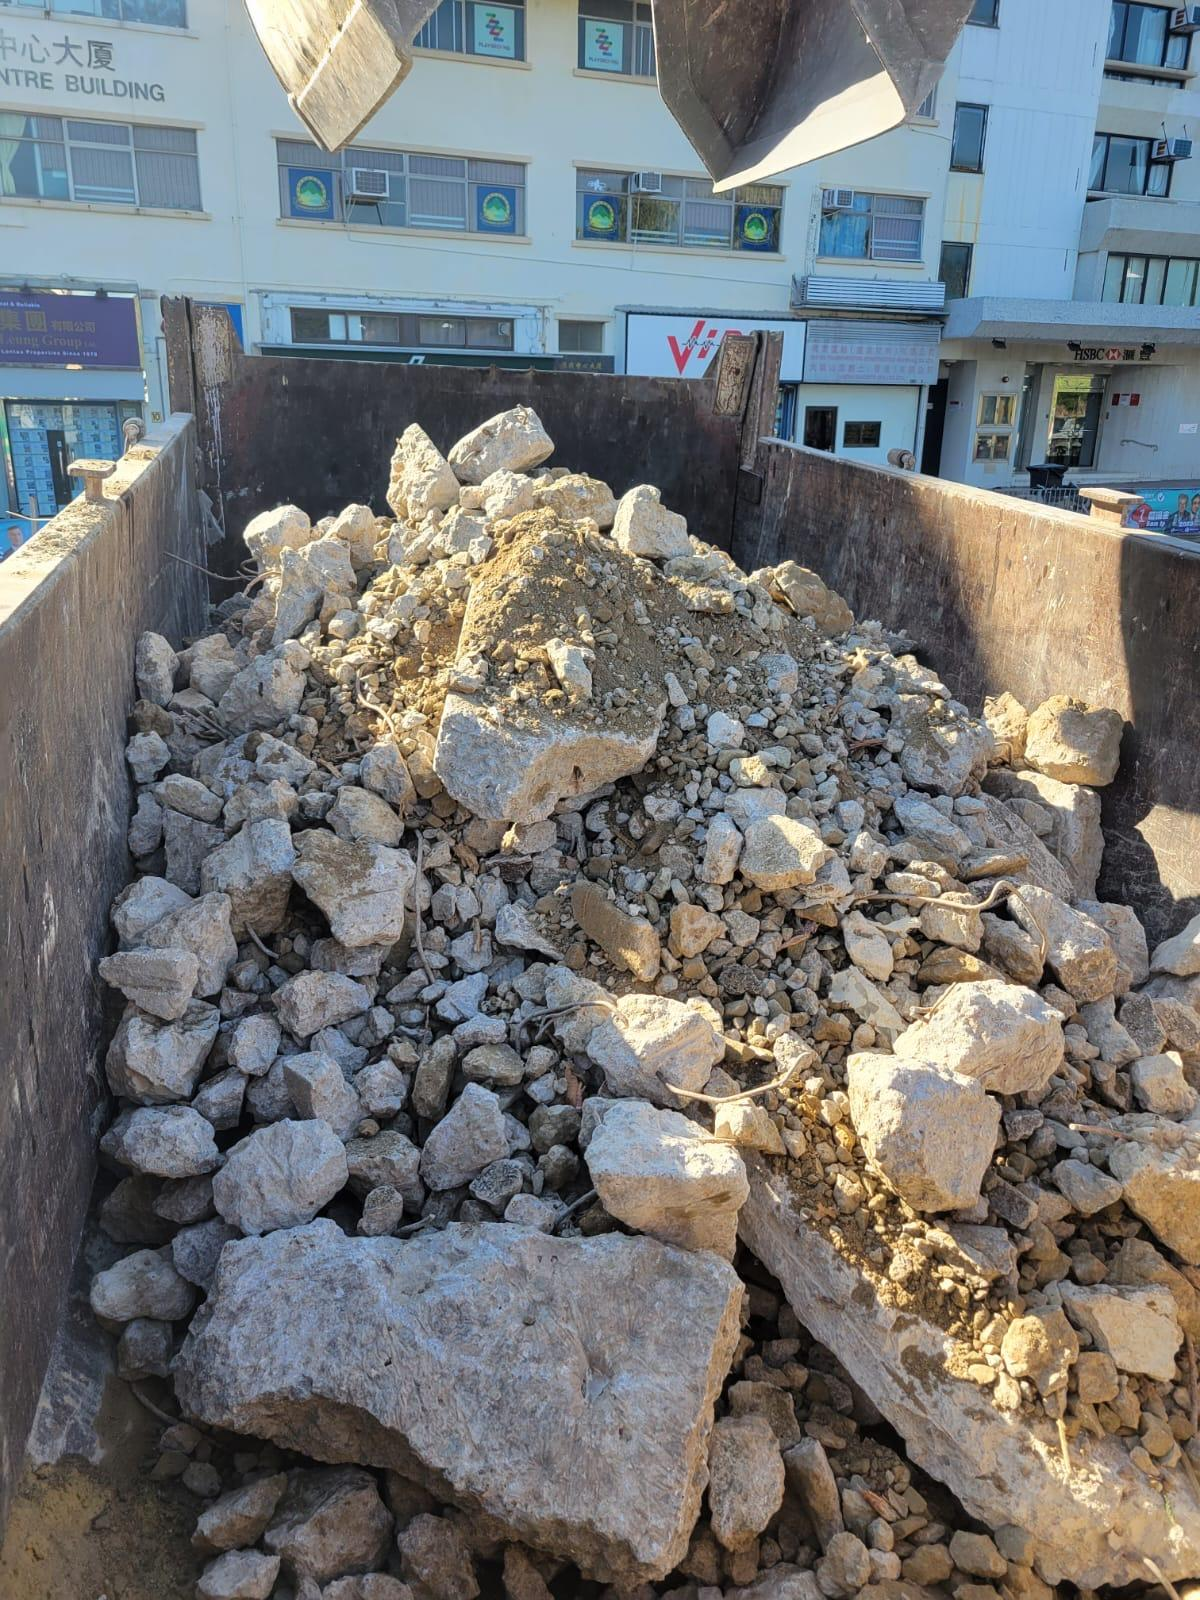dry: (122, 457, 1200, 1595)
